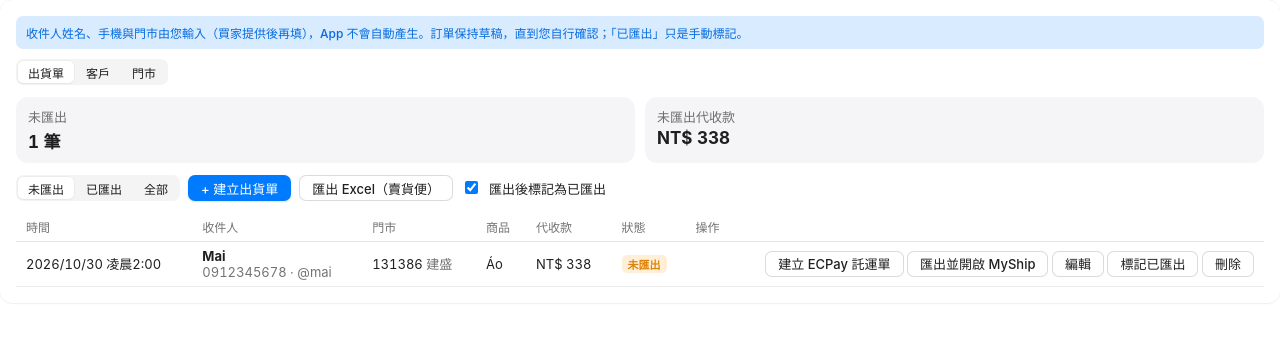
ECPay waybill › asks ECPay in the test environment by default and says nothing shipped for real
Click the button "建立 ECPay 託運單": [834, 264] box x1=765 y1=250 x2=904 y2=276
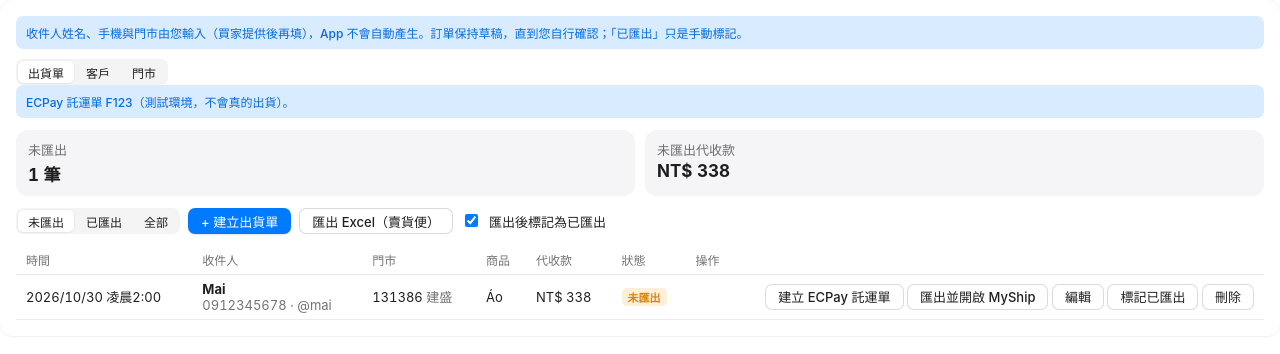
Result: the text "ECPay 託運單 F123（測試環境，不會真的出貨）。" is shown at x1=16 y1=85 x2=1264 y2=118
